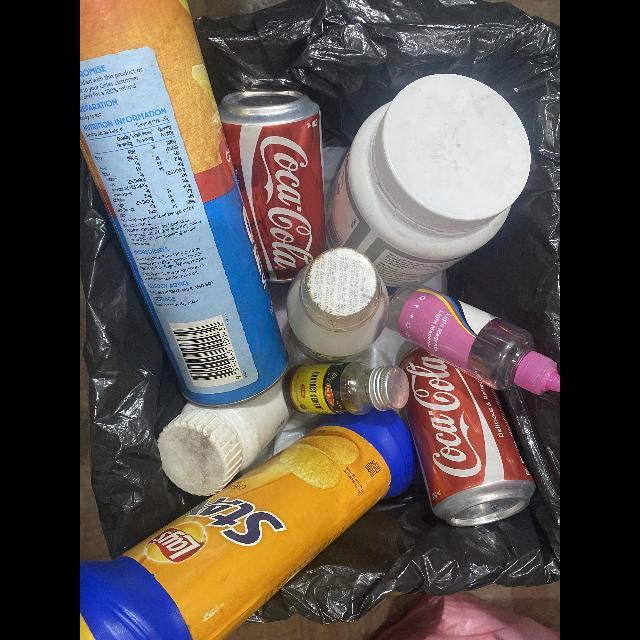aluminum: (400, 348, 536, 527), (218, 89, 326, 284)
cardboard: (80, 0, 288, 409), (80, 425, 393, 640)
glass_bottle: (290, 362, 410, 416)
plastic_bottle: (326, 73, 531, 287), (386, 283, 560, 396), (157, 380, 289, 497), (285, 247, 389, 363)
